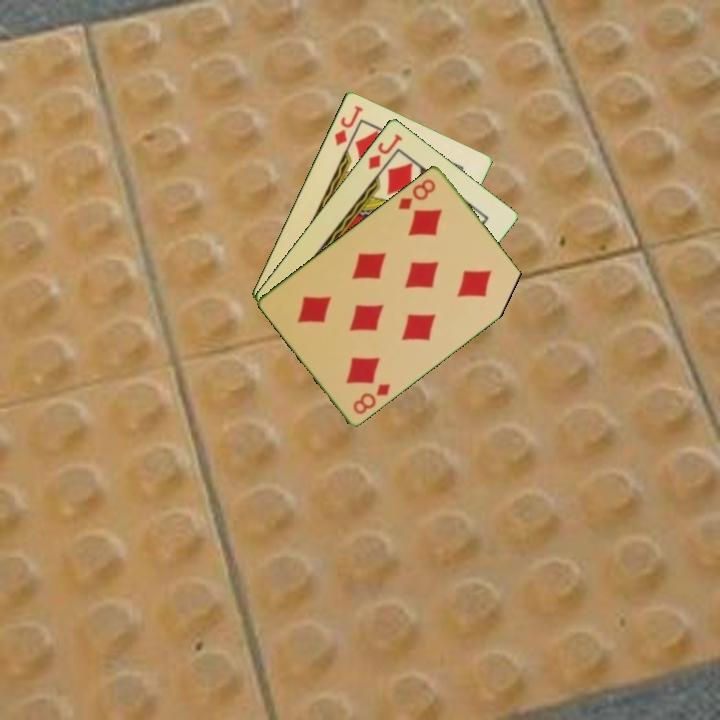8d: (349, 379, 394, 417), (395, 175, 439, 212)
Jd: (365, 130, 405, 172), (331, 102, 366, 149)
